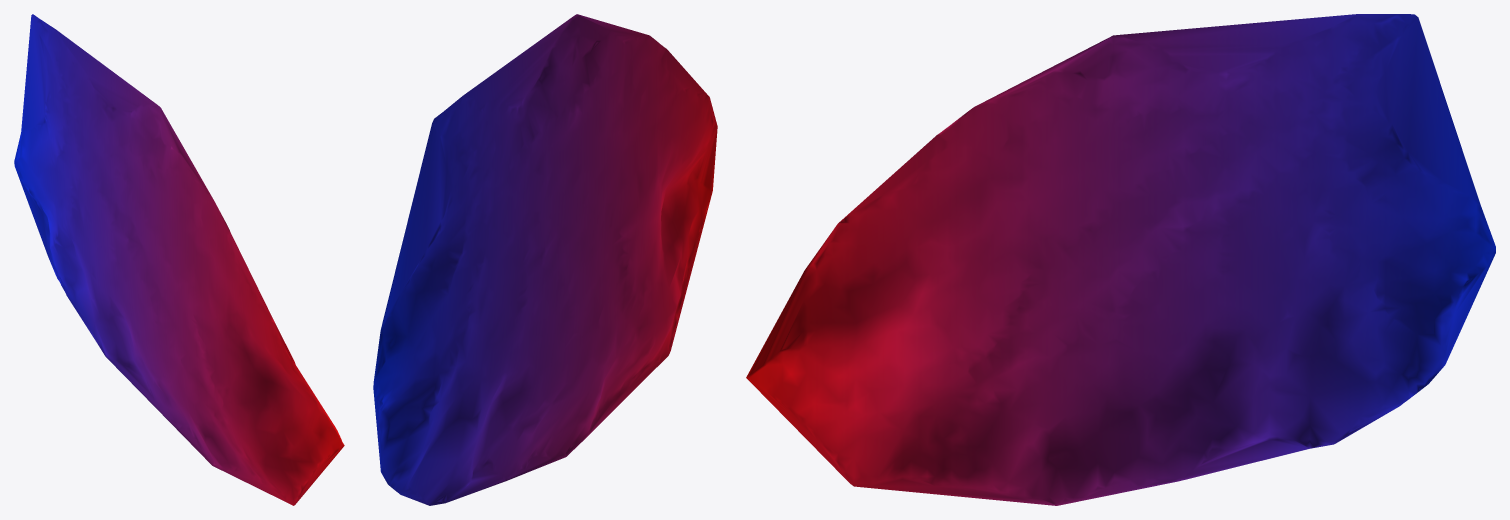
Rendered from salas.gltf.gltf.
3 renders of one model, left to right at view 1: azimuth 30°, elevation 25°; view 2: azimuth 150°, elevation 25°; view 3: azimuth 270°, elevation 25°, orthographic. The views are drawn at different scales.
Bounding box in the file's own units: 302 × 1951 × 2842.
Materials: 1 (1 with a texture image).
